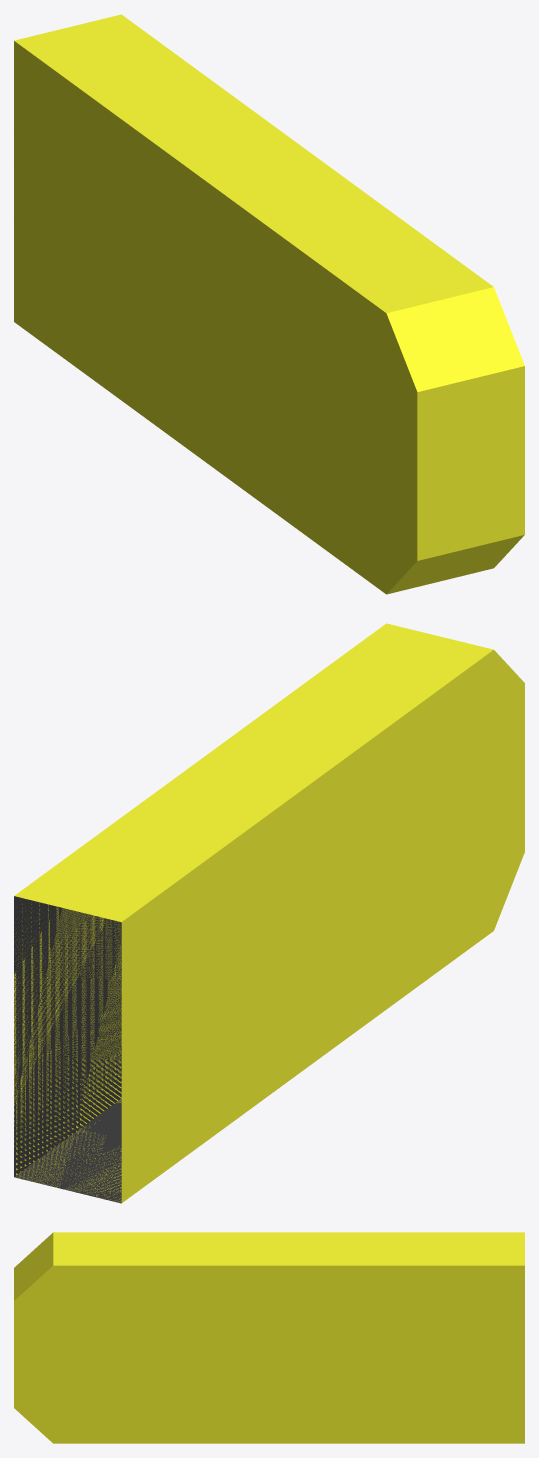
The model's file is original-9.obj.
The picture shows the model from 3 angles, top to bottom: view 1: azimuth 30°, elevation 25°; view 2: azimuth 150°, elevation 25°; view 3: azimuth 270°, elevation 25°; orthographic projection. The views are drawn at different scales.
Visible parts, largest first — view 1: #ID49; view 2: #ID49; view 3: #ID49.
Part boxes in pixels (<box>): #ID49: <box>14,14,524,594</box>; #ID49: <box>14,623,524,1203</box>; #ID49: <box>14,1232,524,1443</box>.
Bounding box in the file's own units: 0.0538 × 0.1346 × 0.3499.
